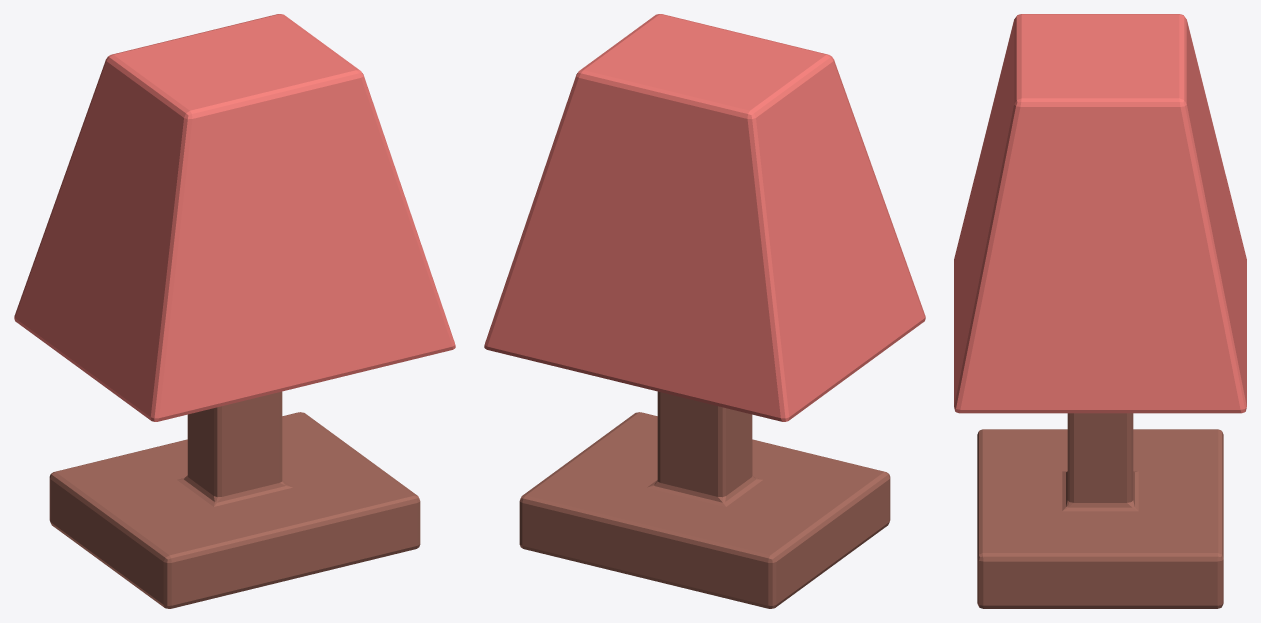
Rendered from Lamp_1.glb.
3 views of the same model, side by side, from view 1: azimuth 30°, elevation 25°; view 2: azimuth 150°, elevation 25°; view 3: azimuth 270°, elevation 25° (orthographic). The views are drawn at different scales.
Parts seen in each view (by area): view 1: Lamp_1; view 2: Lamp_1; view 3: Lamp_1.
Boxes of the visible parts, left/top/right/bottom form: Lamp_1: left=14, top=14, right=455, bottom=608; Lamp_1: left=484, top=14, right=925, bottom=608; Lamp_1: left=954, top=14, right=1246, bottom=608.
Bounding box in the file's own units: 0.5849 × 0.8728 × 0.4722.
